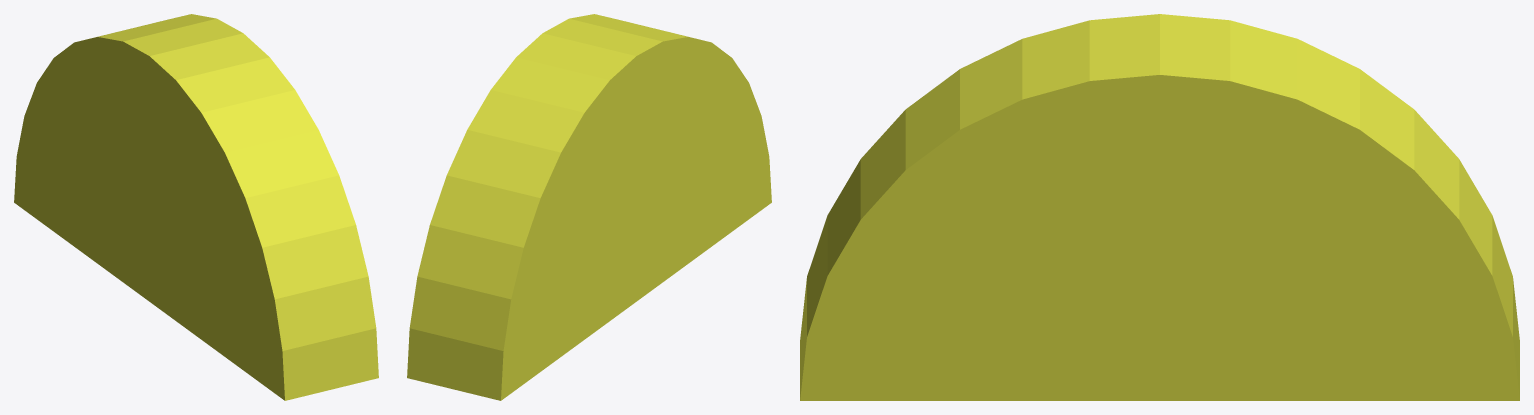
File: transparencia_pieza1.fbx
3 renders of one model, left to right at view 1: azimuth 30°, elevation 25°; view 2: azimuth 150°, elevation 25°; view 3: azimuth 270°, elevation 25°, orthographic. The views are drawn at different scales.
Parts seen in each view (by area): view 1: Cylinder.011; view 2: Cylinder.011; view 3: Cylinder.011.
Boxes of the visible parts, <box> form: Cylinder.011: <box>14,14,378,400</box>; Cylinder.011: <box>407,14,771,400</box>; Cylinder.011: <box>800,14,1519,400</box>.
Bounding box in the file's own units: 100 × 250 × 500.
